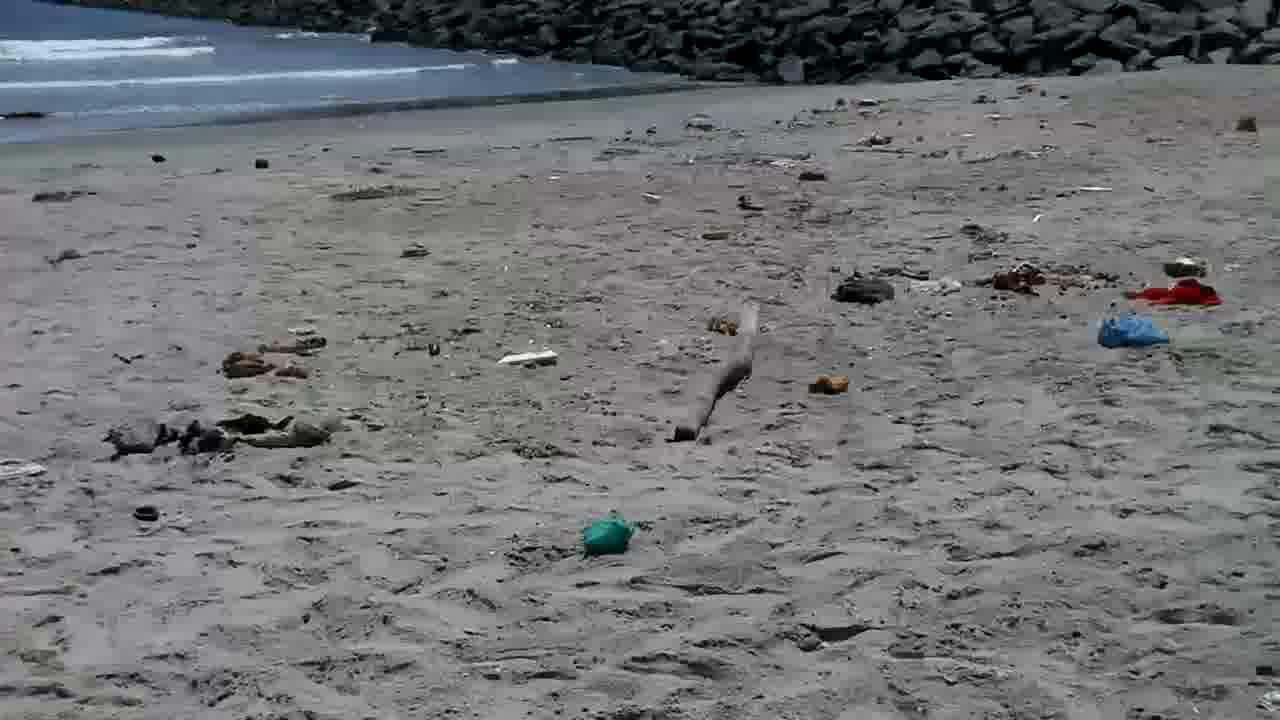large collection of objects: (676, 112, 746, 144), (971, 84, 1049, 105), (404, 239, 434, 258)
obj: (675, 299, 765, 448), (102, 413, 342, 459), (220, 326, 330, 380), (977, 262, 1117, 297), (1124, 276, 1226, 306), (1094, 314, 1168, 351), (831, 270, 896, 307), (580, 514, 640, 554), (331, 183, 410, 201), (491, 348, 560, 368), (30, 187, 106, 204), (36, 247, 94, 267), (910, 277, 960, 297), (0, 453, 40, 477), (812, 373, 854, 395), (704, 316, 738, 336), (734, 158, 802, 168), (1230, 114, 1258, 133), (696, 230, 734, 243), (739, 193, 763, 210), (1068, 184, 1114, 192), (133, 505, 157, 520), (798, 168, 826, 180), (256, 157, 271, 171), (1030, 212, 1042, 228), (150, 152, 168, 162), (641, 192, 660, 200), (983, 112, 1002, 119), (545, 173, 561, 181), (959, 131, 979, 137), (688, 158, 693, 163)
sand/background: (0, 0, 1279, 143)
